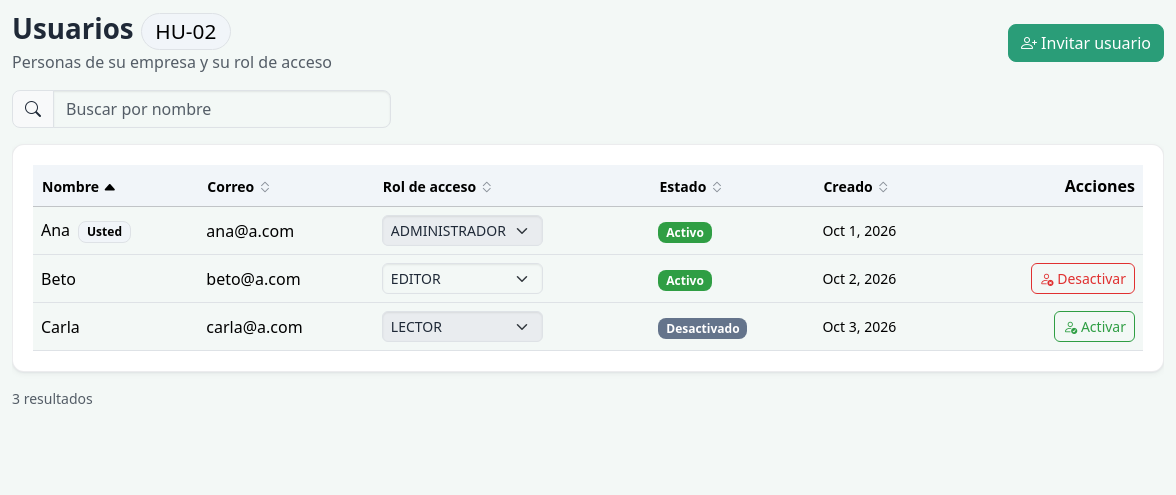
Test: UsuariosComponent (HU-02) › reactiva un usuario desactivado
Click the button with id "activarUsuarioBtn-3" at {"x": 1095, "y": 327}, box [1054,311,1135,342]
Wait 300 ms
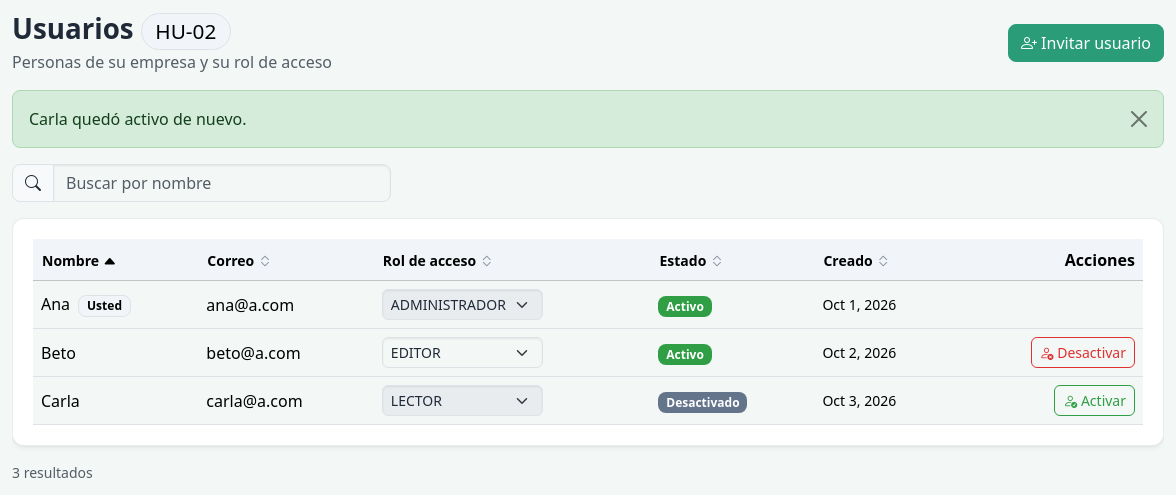
Result: the element with id "avisoUsuarios" shows "Carla quedó activo de nuevo" at [29,108,246,130]
